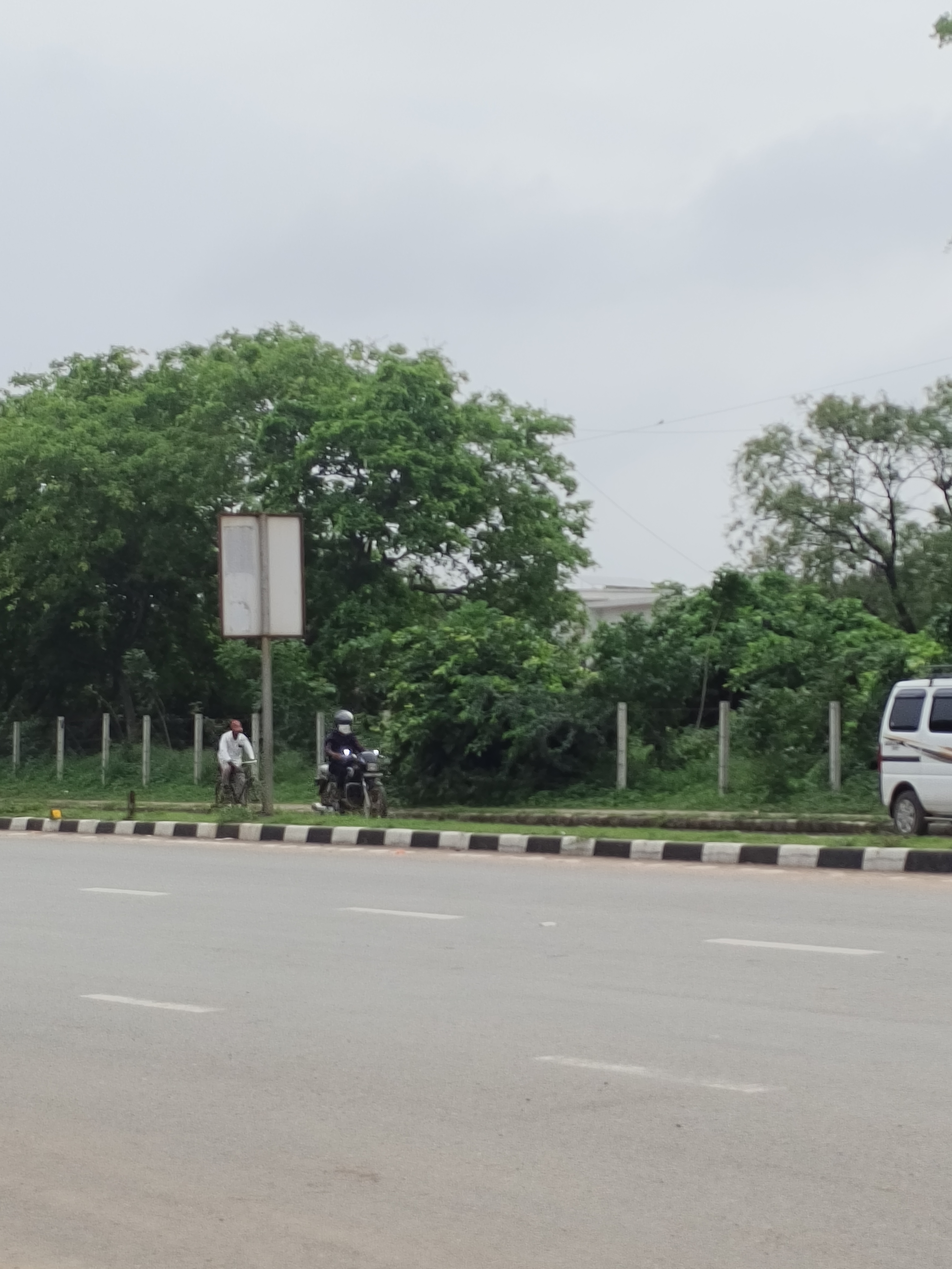BikeWithRider: (311, 704, 405, 824)
Helmet: (328, 709, 359, 735)
